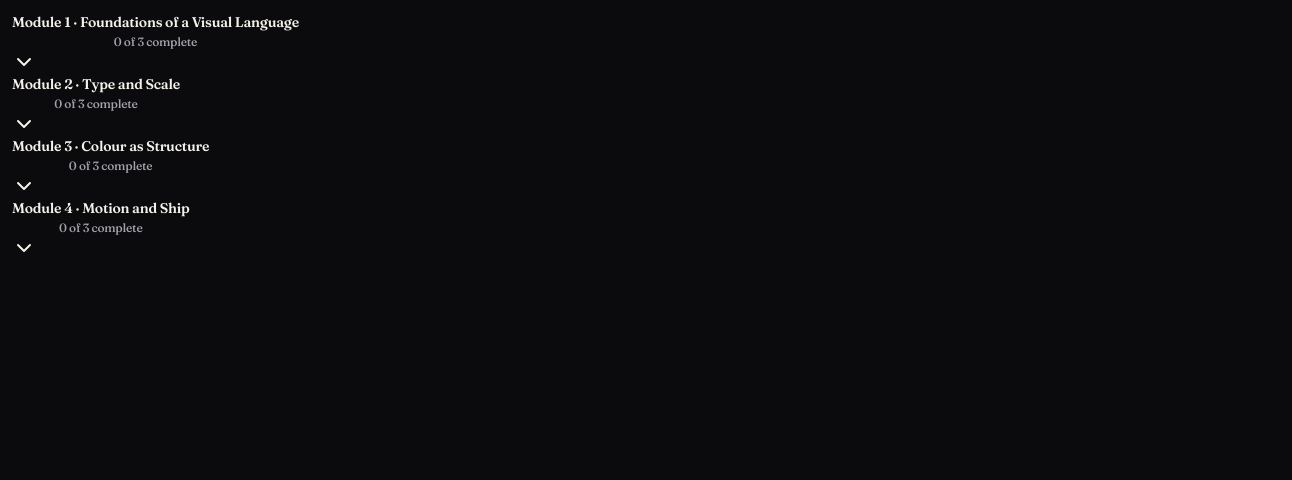
CurriculumList › states each lesson's state in words, not colour alone
The image size is (1292, 480).
What coordinates should you click on to do the following:
click the button "Module 1 · Foundations of a Visual Language 0 of 3 complete"
I would click on:
 (155, 43)
Its box is [12,12,299,74].
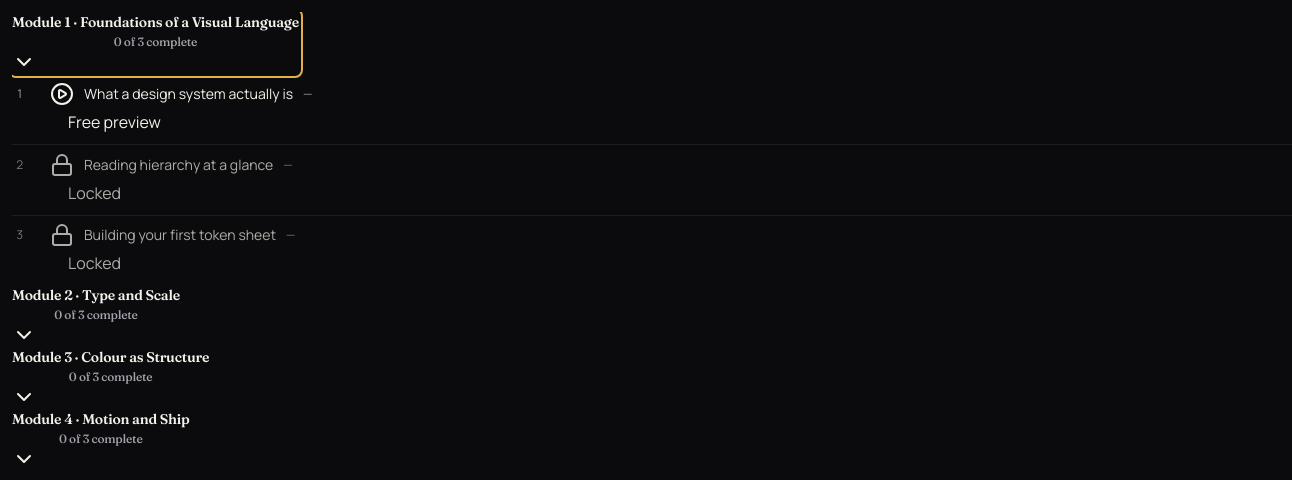
expect the text "Free preview" is shown: met, box [68,110,161,136]
expect the text "Locked" below "Reading hierarchy at a glance" is shown: met, box [68,182,121,204]
